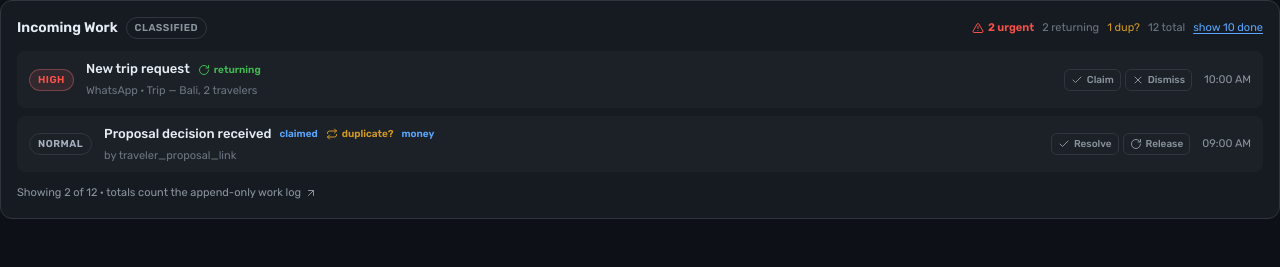
Scenario: WorkQueuePanel › surfaces an honest error line when a lifecycle action fails
The image size is (1280, 267).
Click the button titled "Claim this item" at [1092, 80], box [1064,69,1121,91]
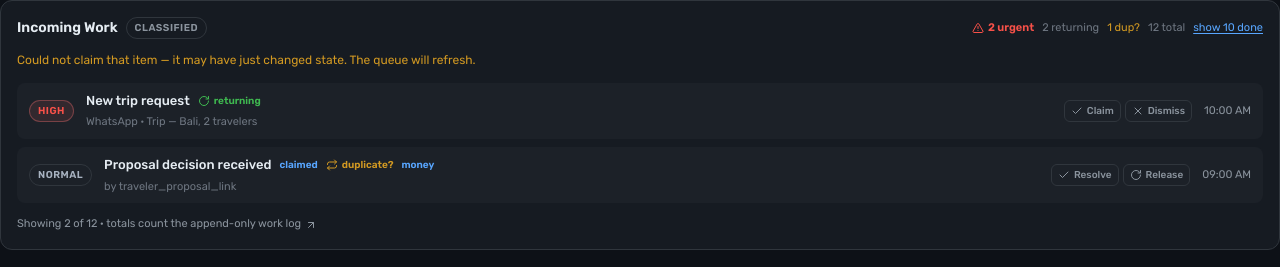
Expected: the message shows "Could not claim", [17,53,476,67]
